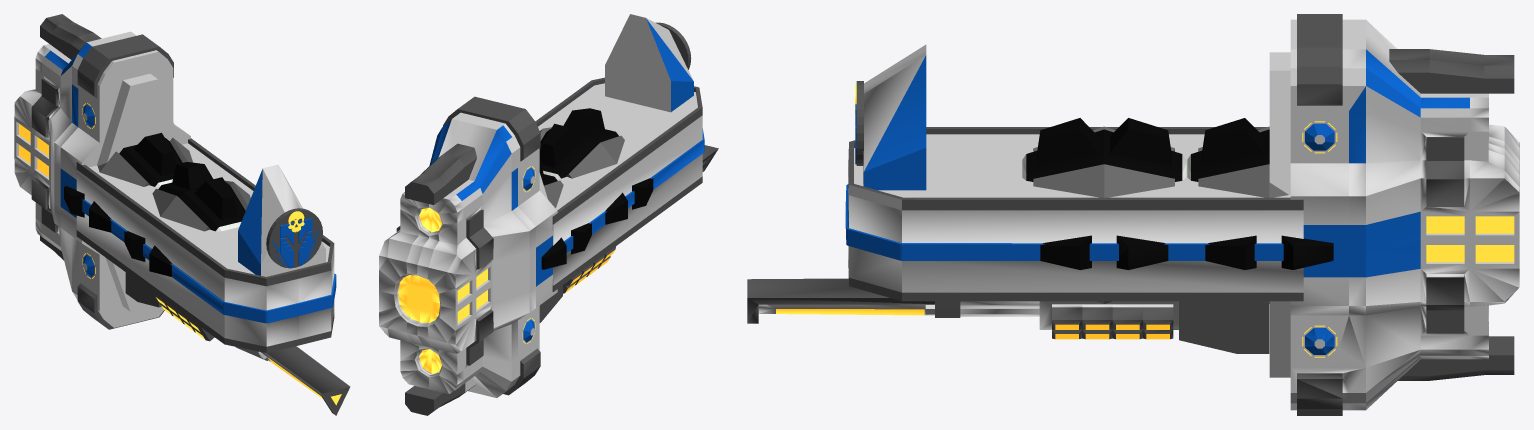
The model's file is 666_ship_heavy_longbowman.glb.
3 renders of one model, left to right at view 1: azimuth 30°, elevation 25°; view 2: azimuth 150°, elevation 25°; view 3: azimuth 270°, elevation 25°, orthographic. The views are drawn at different scales.
Parts seen in each view (by area): view 1: 66_ship_heavy_longbowman, longbowmanBBQ; view 2: 66_ship_heavy_longbowman, longbowmanBBQ; view 3: 66_ship_heavy_longbowman, longbowmanBBQ.
Part boxes in pixels (x1=…): 66_ship_heavy_longbowman: x1=14, y1=14, x2=350, y2=415; longbowmanBBQ: x1=64, y1=132, x2=250, y2=276; 66_ship_heavy_longbowman: x1=379, y1=14, x2=718, y2=415; longbowmanBBQ: x1=539, y1=108, x2=653, y2=269; 66_ship_heavy_longbowman: x1=747, y1=14, x2=1519, y2=415; longbowmanBBQ: x1=1022, y1=118, x2=1333, y2=303.
Bounding box in the file's own units: 0.2985 × 0.5981 × 1.14.
